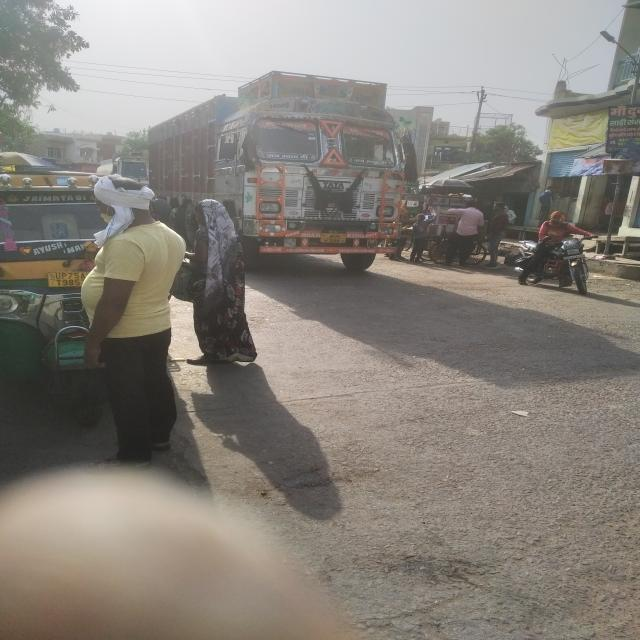auto_front: (0, 158, 146, 432)
truck_front: (136, 63, 414, 277)
two_wheeler_front: (512, 228, 598, 299)
